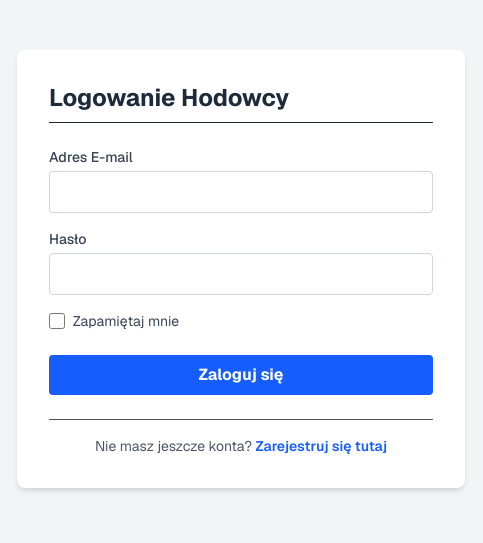
it: Breeder Login Process › Should display an error message if the credentials are incorrect
In the field named "email": [241, 192] box [49,171,433,213], type "wrong.email@test.cy"
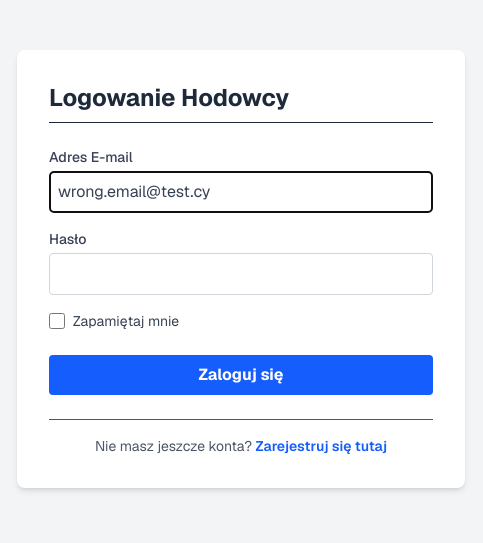
In the password field named "password": [241, 274] box [49,253,433,295], type "WrongPassword1!"
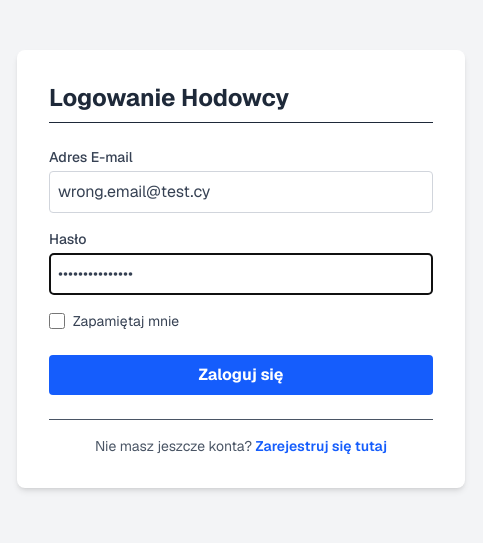
Click the submit button: [241, 375] box [49,355,433,395]
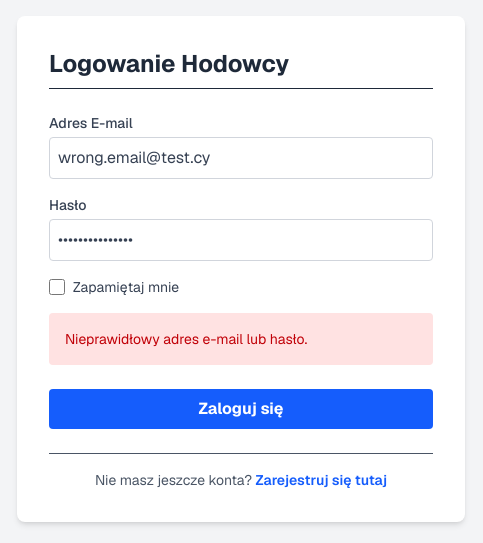
Check: the text "Nieprawidłowy adres e-mail lub hasło." is shown, box [49,313,433,365]
